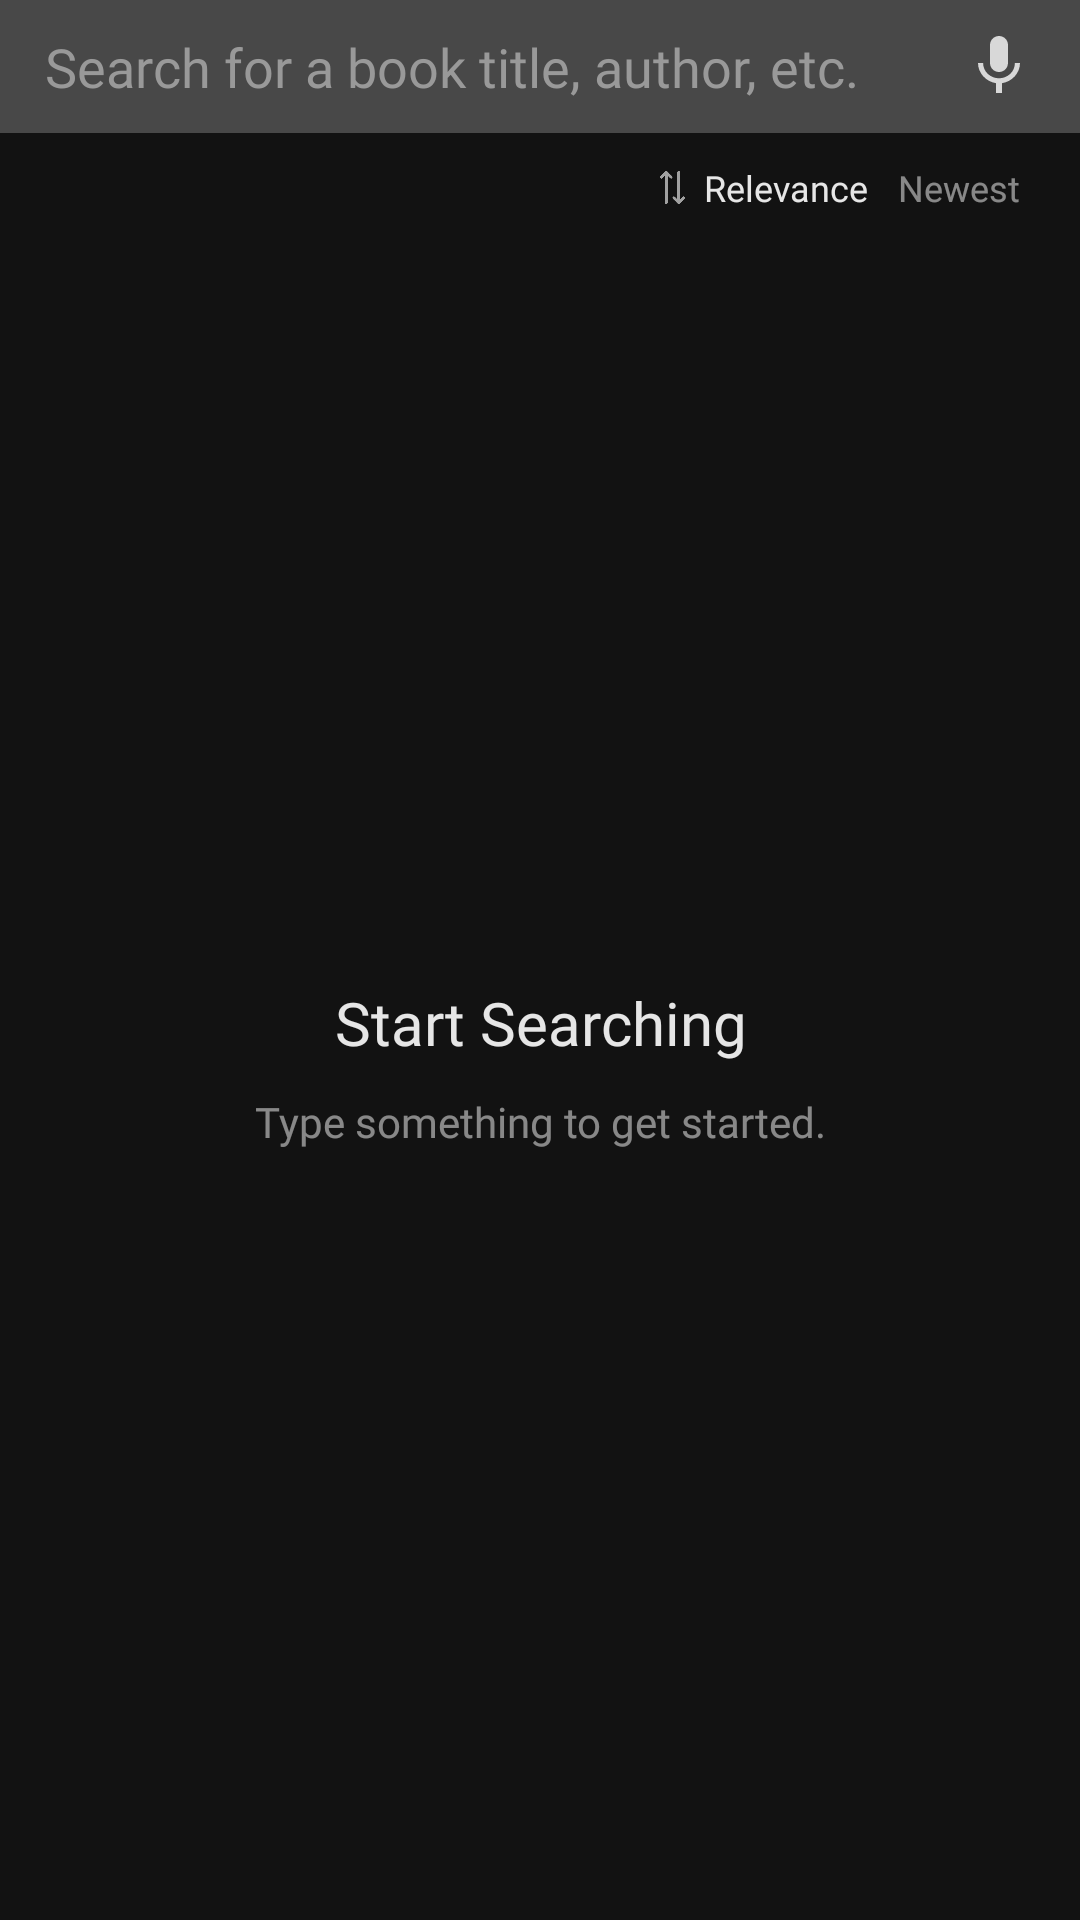

Icons on this 1080w x 1920h Android screen, each with the point to tap as [x,y]:
mic: [999,64]
sort icon: [672,187]
